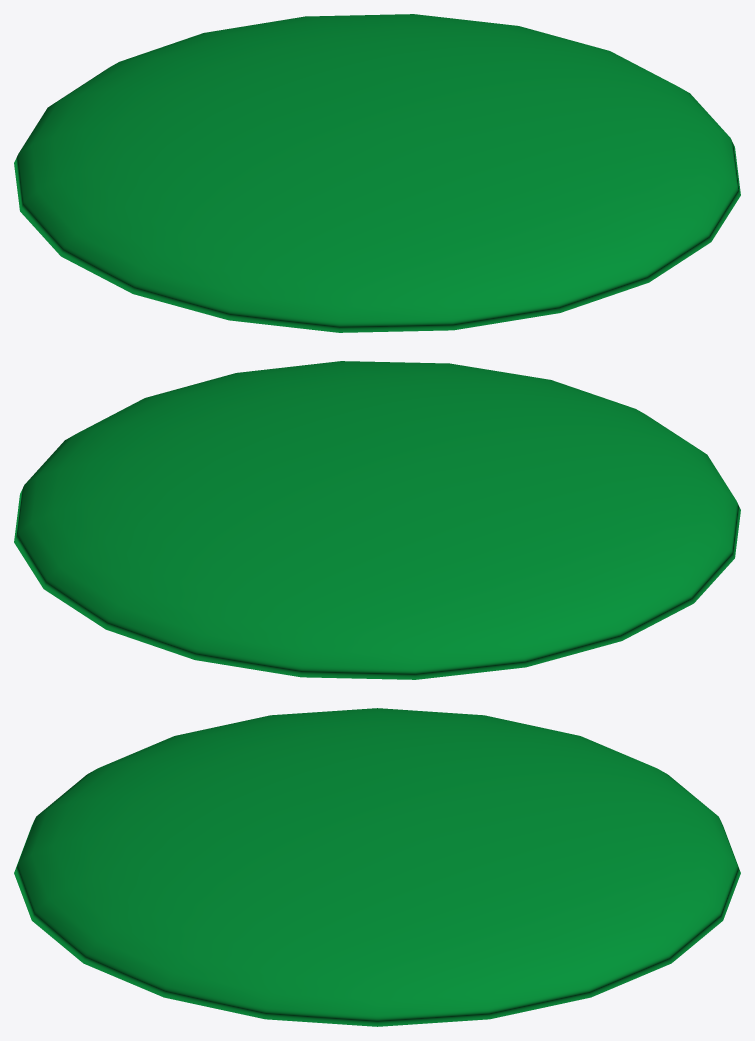
The model's file is NoteTest.fbx.
3 views of the same model, one above another, from view 1: azimuth 30°, elevation 25°; view 2: azimuth 150°, elevation 25°; view 3: azimuth 270°, elevation 25° (orthographic).
Visible parts, largest first — view 1: pSphere1; view 2: pSphere1; view 3: pSphere1.
Boxes of the visible parts, box(x1,y1,x2,y2) form: pSphere1: box(14, 14, 740, 332); pSphere1: box(14, 361, 740, 679); pSphere1: box(14, 708, 740, 1026).
Bounding box in the file's own units: 13.68 × 1.28 × 13.68.
